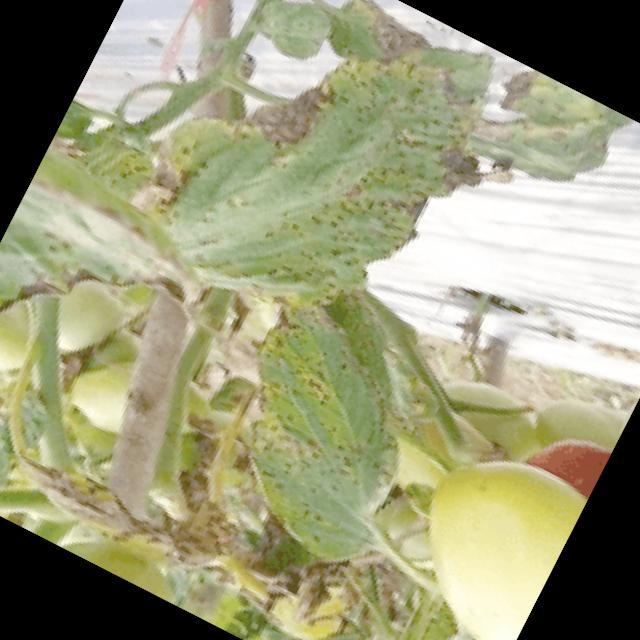Tomato bacterial spot leaf: (120, 0, 533, 381), (177, 252, 480, 583)
